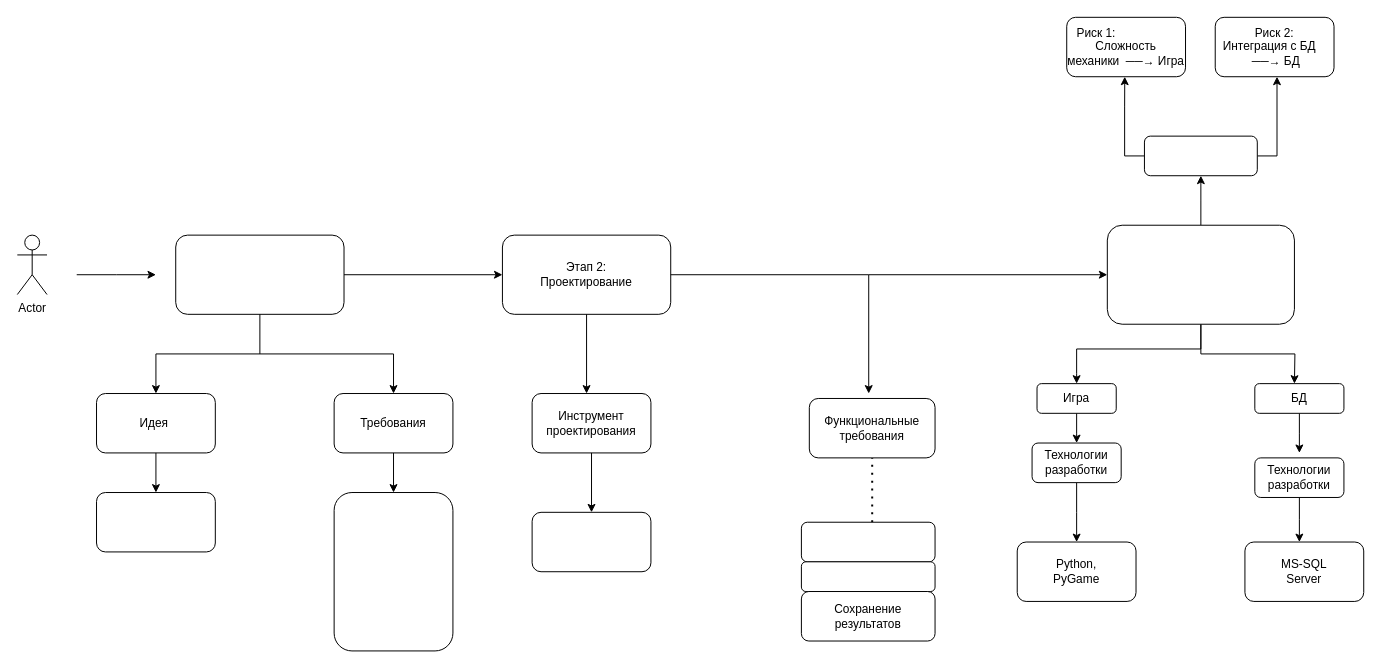
This 1381x668 diagram has some shape labels left out. The shapes that lost their labels are listed below. From the top down, each one's box as (x1, y1, x2, y2) in pixels, then its label:
(1143, 135, 1257, 176): Риски разработки
(175, 234, 344, 314): Этап 1: Идея и требования
(1106, 224, 1294, 324): Этап 3: Разработка
(96, 492, 215, 552): Змейка (Snake)
(531, 511, 651, 572): Figma
(800, 521, 935, 562): Управление
(333, 492, 453, 651): Требования (реализация требований)
(800, 561, 935, 592): Система очков
